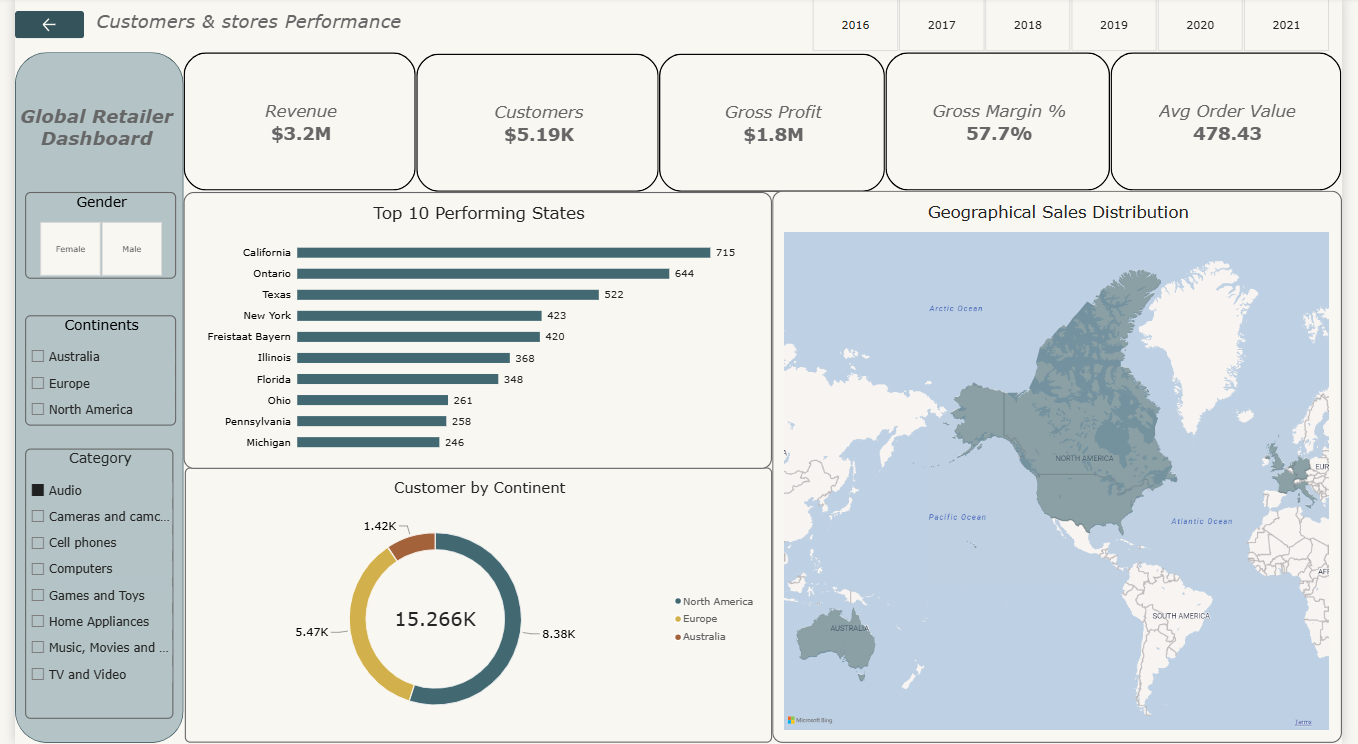

What the dashboard file says about the page in this screenshot:
{"tool":"powerbi","page":{"name":" Customers & stores Performance ","canvas":[1920,1080],"ordinal":2},"visuals":[{"type":"shape","box":[0,80.1,243.9,999.2],"z":0},{"type":"textbox","box":[100.1,0,486,80.1],"z":1000},{"type":"slicer","fields":{"Values":["Calendar.Year"]},"box":[1133.9,0,786.3,80.1],"z":2000},{"type":"cardVisual","title":"Total Revenue","fields":{"Data":["table.Revenue"]},"box":[243.9,80.1,336.7,200.2],"z":3000},{"type":"cardVisual","title":"Total Revenue","fields":{"Data":["table.Gross Profit"]},"box":[931.8,81.9,327.6,200.2],"z":4000},{"type":"cardVisual","title":"Total Revenue","fields":{"Data":["table.Gross Margin %"]},"box":[1259.5,80.1,325.8,200.2],"z":5000},{"type":"cardVisual","title":"Total Revenue","fields":{"Data":["table.Customers"]},"box":[580.6,81.9,351.3,200.2],"z":6000},{"type":"cardVisual","title":"Total Revenue","fields":{"Data":["table.Avg Order Value"]},"box":[1585.3,80.1,334.9,200.2],"z":7000},{"type":"slicer","title":"Gender","fields":{"Values":["public customers.Gender"]},"box":[14.6,282.1,218.4,125.6],"z":8000},{"type":"slicer","title":"Continents","fields":{"Values":["public customers.continent"]},"box":[14.6,460.5,218.4,160.2],"z":9000},{"type":"textbox","box":[3.6,154.7,229.3,78.3],"z":10000},{"type":"slicer","title":"Category","fields":{"Values":["public products.category"]},"box":[14.6,653.4,214.8,391.3],"z":11000},{"type":"filledMap","title":"Geographical Sales Distribution","fields":{"Category":["public customers.country"],"Series":["public products.category"]},"box":[1095.7,280.3,824.5,799],"z":12000},{"type":"donutChart","title":"Customer by Continent","fields":{"Category":["public customers.continent"],"Y":["CountNonNull(public customers.customerkey)"]},"box":[245.7,680.7,850,398.6],"z":13000},{"type":"actionButton","box":[0,20,100,40],"z":14000},{"type":"barChart","title":"Top 10 Performing States","fields":{"Category":["public customers.State"],"Y":["CountNonNull(public customers.customerkey)"]},"box":[243.9,282.1,851.8,400.4],"z":15000}]}

Visuals, with their boxes in screenshot pixels (x1, y1, x2, y2), scaled from the page's 1920x1080 canvas onto the 1358x744 screenshot:
shape: box=[0, 55, 173, 743]
textbox: box=[71, 0, 415, 55]
slicer - Calendar.Year: box=[802, 0, 1357, 55]
"Total Revenue" cardVisual: box=[173, 55, 411, 193]
"Total Revenue" cardVisual: box=[659, 56, 891, 194]
"Total Revenue" cardVisual: box=[891, 55, 1121, 193]
"Total Revenue" cardVisual: box=[411, 56, 659, 194]
"Total Revenue" cardVisual: box=[1121, 55, 1357, 193]
"Gender" slicer: box=[10, 194, 165, 281]
"Continents" slicer: box=[10, 317, 165, 428]
textbox: box=[3, 107, 165, 161]
"Category" slicer: box=[10, 450, 162, 720]
"Geographical Sales Distribution" filledMap: box=[775, 193, 1357, 743]
"Customer by Continent" donutChart: box=[174, 469, 775, 743]
actionButton: box=[0, 14, 71, 41]
"Top 10 Performing States" barChart: box=[173, 194, 775, 470]
